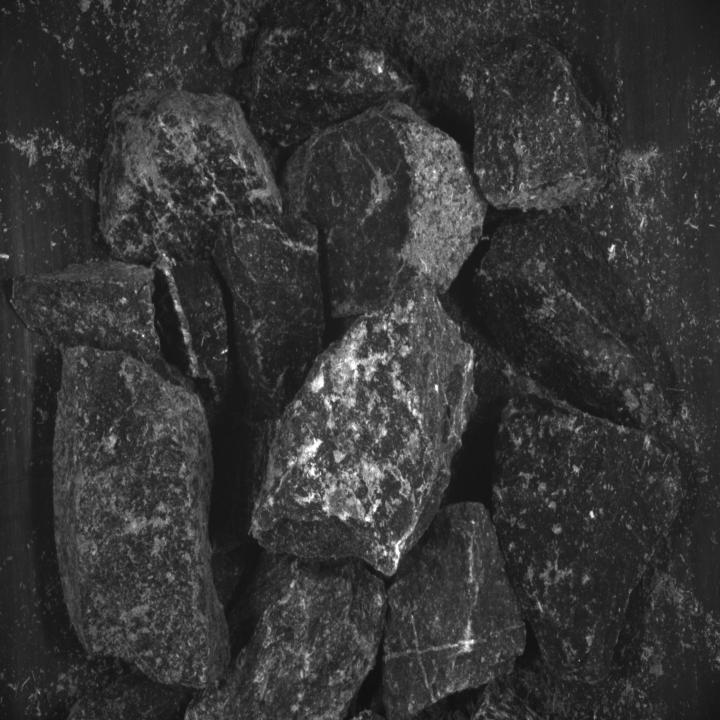stone: (250, 275, 476, 575), (52, 345, 232, 692), (492, 386, 682, 682), (279, 102, 487, 316), (475, 211, 674, 428), (184, 552, 386, 718), (100, 87, 283, 260), (382, 503, 526, 720), (212, 208, 324, 421), (471, 45, 611, 210), (251, 28, 418, 145), (11, 258, 160, 357), (160, 255, 231, 400), (67, 676, 195, 720), (471, 676, 543, 720), (216, 32, 244, 66), (351, 710, 386, 720)
